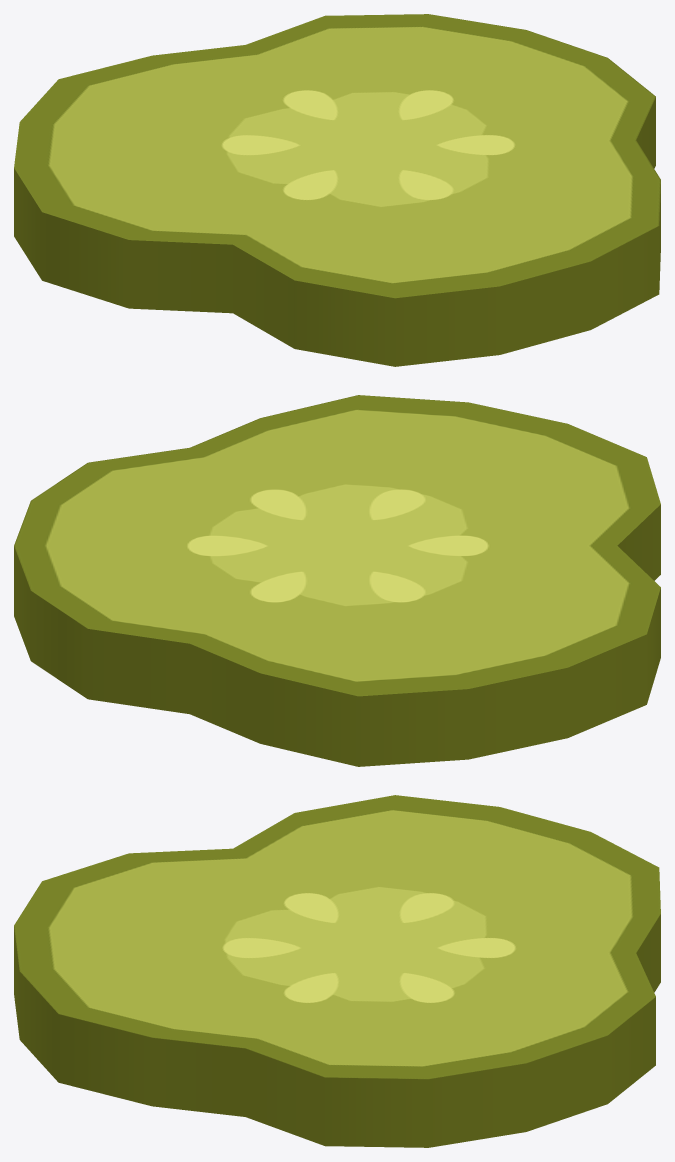
Rendered from Pickle_Slice_Pickles_0.glb.
3 renders of one model, top to bottom at view 1: azimuth 30°, elevation 25°; view 2: azimuth 150°, elevation 25°; view 3: azimuth 270°, elevation 25°, orthographic. The views are drawn at different scales.
Parts seen in each view (by area): view 1: Pickle_Slice_Pickles_0; view 2: Pickle_Slice_Pickles_0; view 3: Pickle_Slice_Pickles_0.
Part boxes in pixels (left/top/right/bottom): Pickle_Slice_Pickles_0: left=14, top=14, right=660, bottom=366; Pickle_Slice_Pickles_0: left=14, top=395, right=660, bottom=766; Pickle_Slice_Pickles_0: left=14, top=795, right=660, bottom=1147.
Bounding box in the file's own units: 0.0889 × 0.01 × 0.0855.
1 material, 1 textured.
